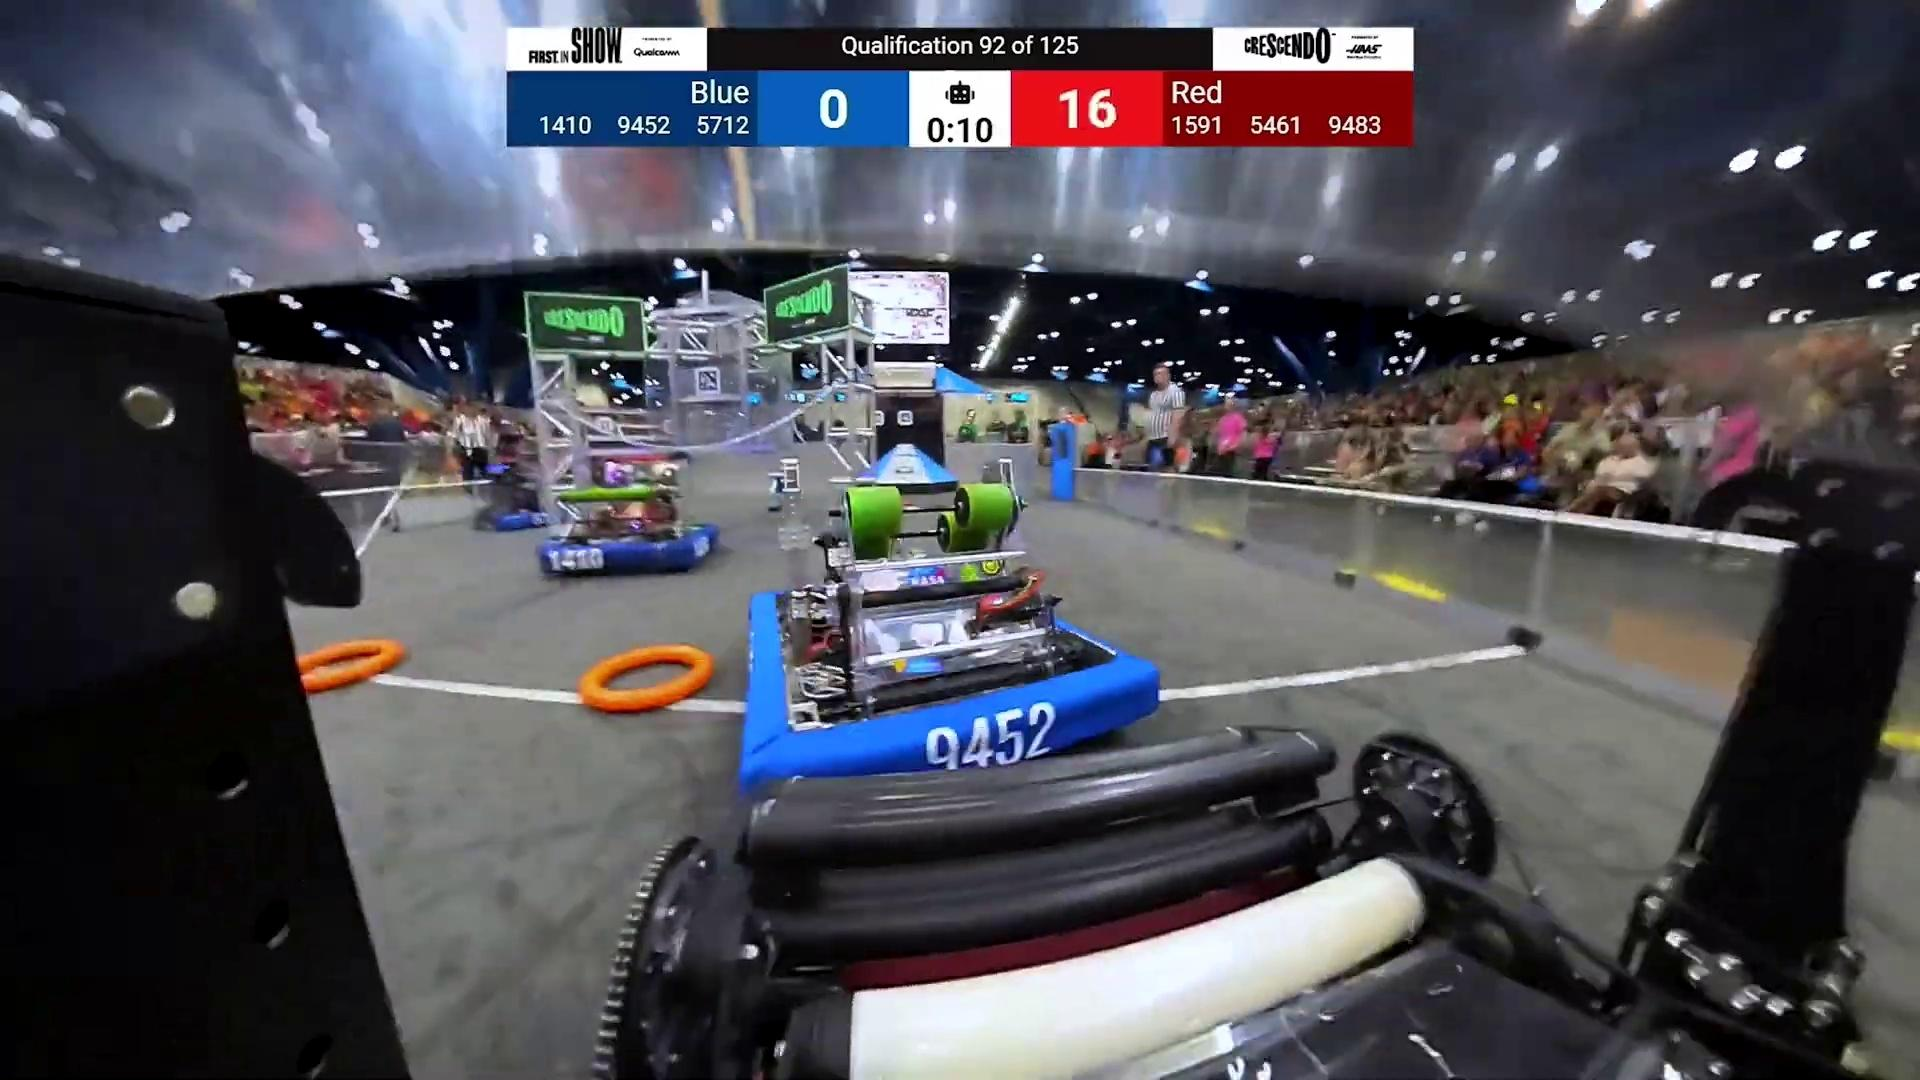robot: (744, 459, 1163, 800), (537, 484, 720, 578), (475, 469, 546, 533)
